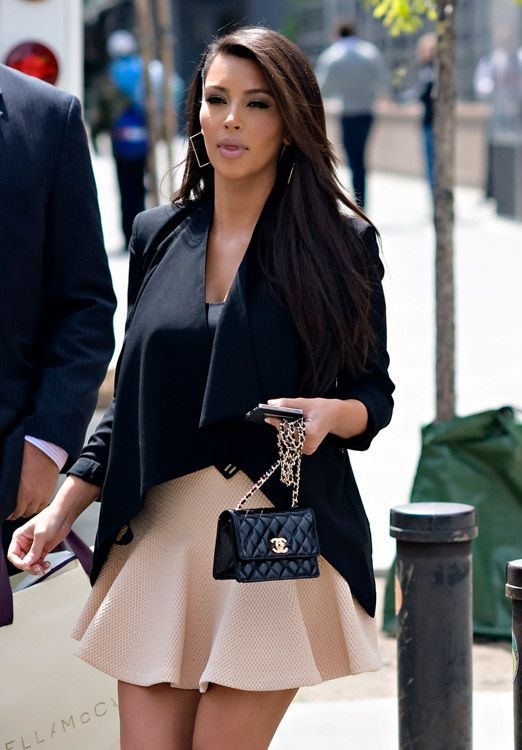channel: (211, 507, 330, 583), (280, 431, 305, 507), (264, 536, 298, 561)
